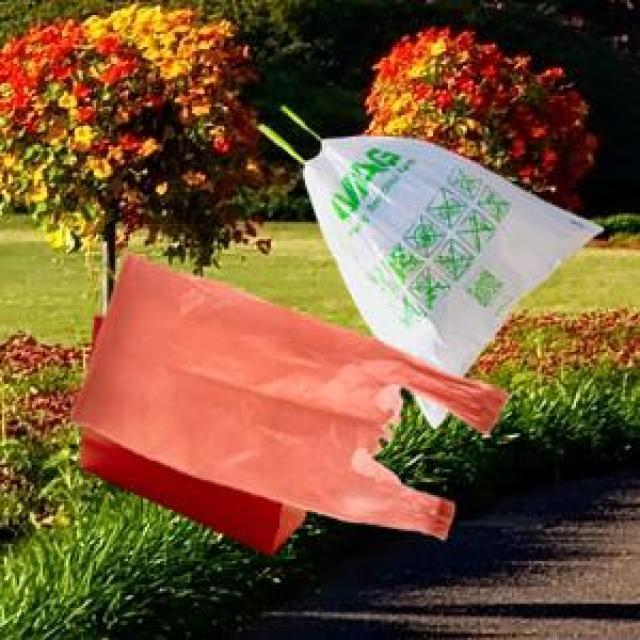paper: (78, 312, 301, 550)
